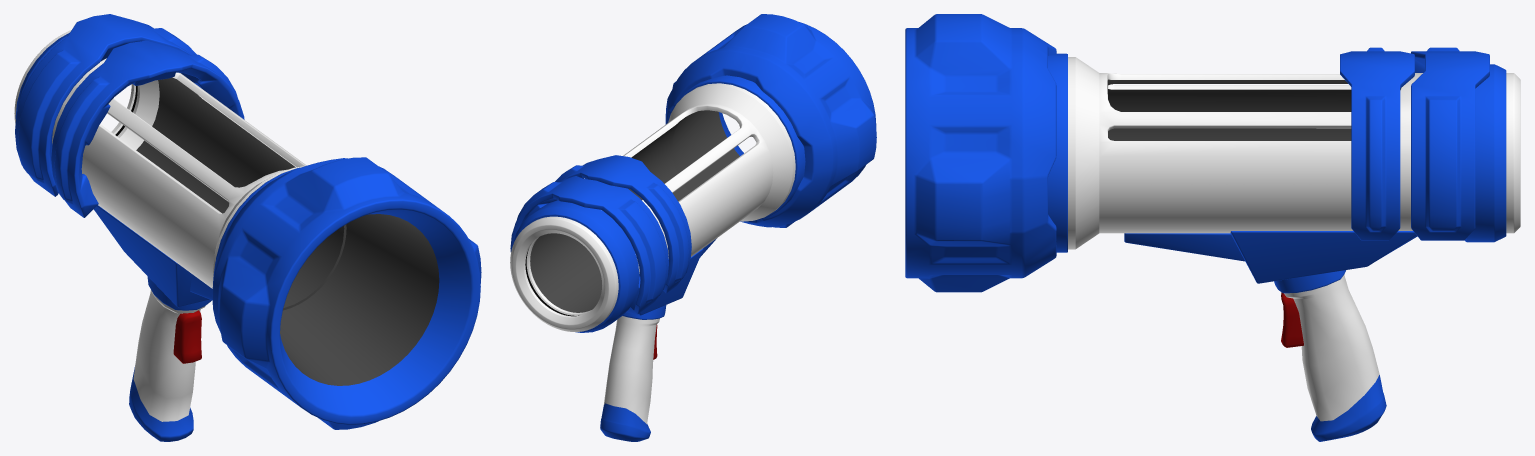
The model's file is Launcher.fbx.
3 renders of one model, left to right at view 1: azimuth 30°, elevation 25°; view 2: azimuth 150°, elevation 25°; view 3: azimuth 270°, elevation 25°, orthographic. The views are drawn at different scales.
Parts seen in each view (by area): view 1: Launcher, Launcher_Ring, Launcher_Trigger; view 2: Launcher, Launcher_Ring; view 3: Launcher, Launcher_Ring, Launcher_Trigger.
Boxes of the visible parts, box(x1,y1,x2,y2) form: Launcher: box(14, 14, 481, 441); Launcher_Ring: box(51, 40, 244, 217); Launcher_Trigger: box(173, 310, 201, 363); Launcher: box(510, 14, 876, 441); Launcher_Ring: box(555, 155, 691, 293); Launcher: box(905, 14, 1520, 441); Launcher_Ring: box(1340, 47, 1414, 240); Launcher_Trigger: box(1281, 292, 1303, 347).
Bounding box in the file's own units: 18.06 × 28.63 × 38.74.
